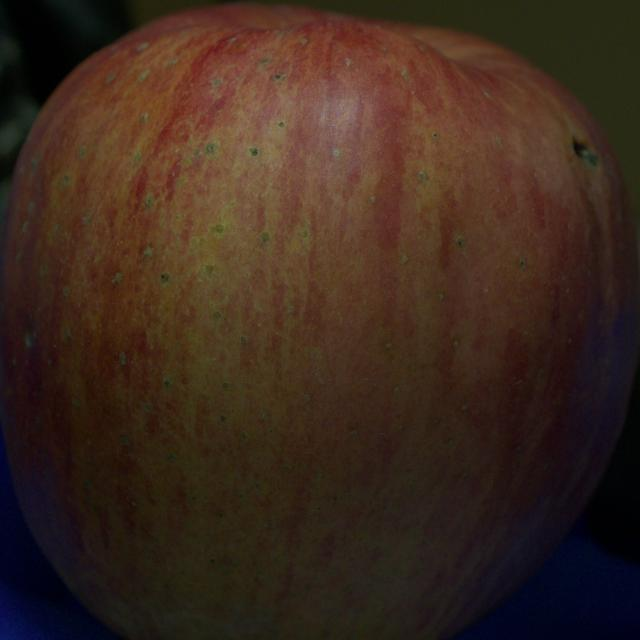apple: (0, 4, 639, 639)
pest: (573, 139, 599, 168), (25, 331, 34, 348)
